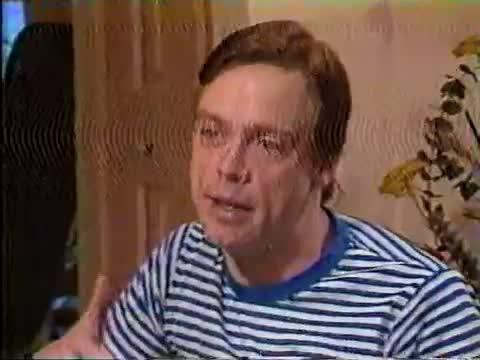bad: (167, 110, 296, 239)
